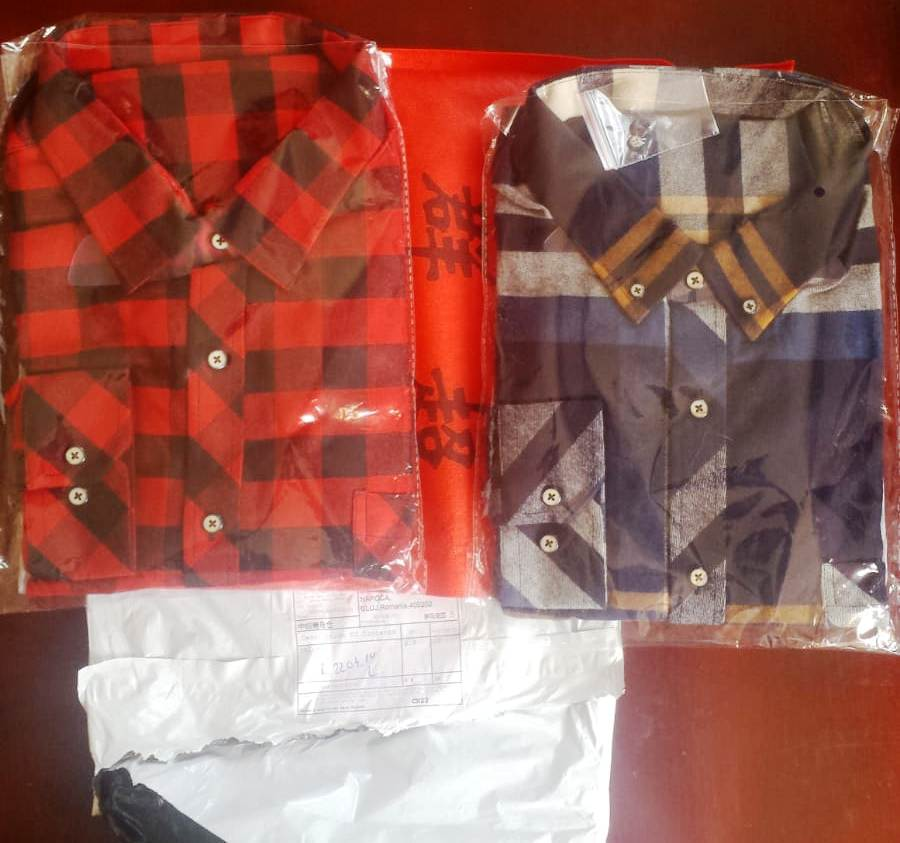shirts: (6, 28, 408, 578), (496, 72, 884, 632)
